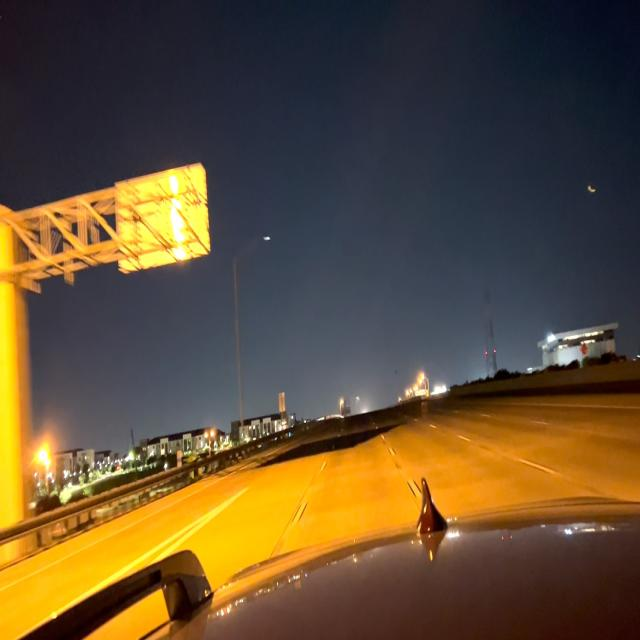back-of-sign: (114, 168, 211, 274)
